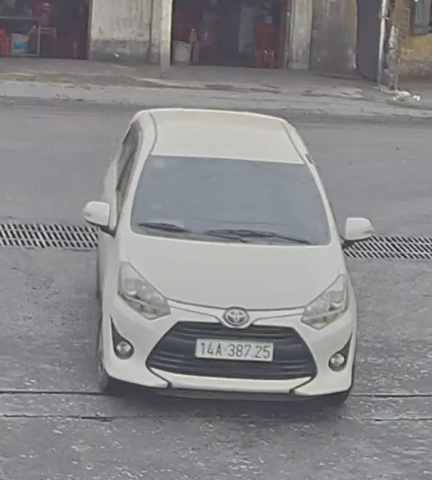vehicle plate: (192, 332, 276, 361)
